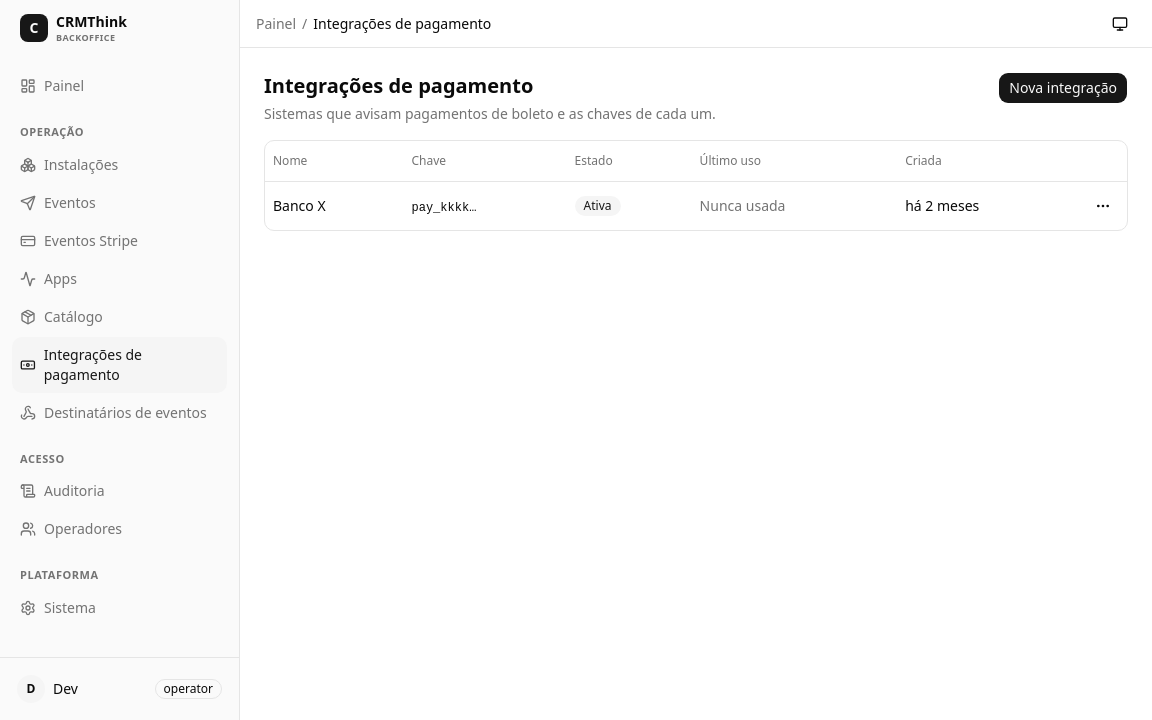
Scenario: tela Integrações de pagamento › erro da API aparece no diálogo, que continua aberto
Click the button named "Ações de Banco X" at (1103, 206), box [1087,190,1119,222]
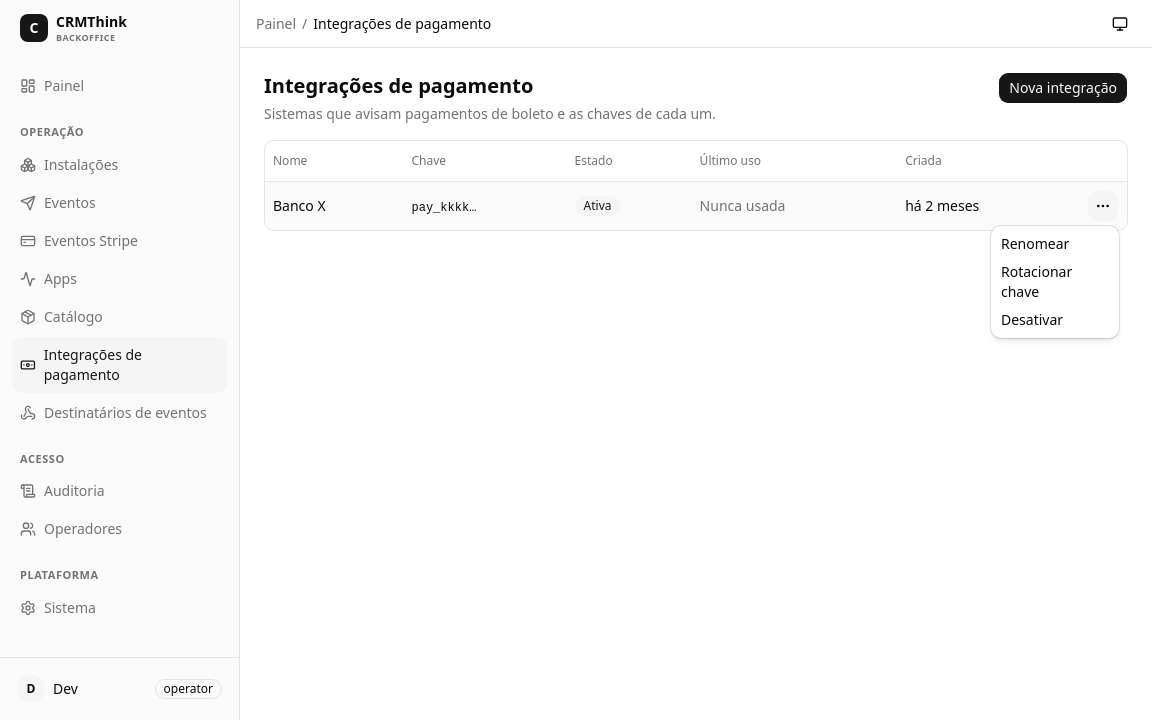
Click the menu item "Rotacionar chave" at (1037, 282), box [1001,262,1072,301]
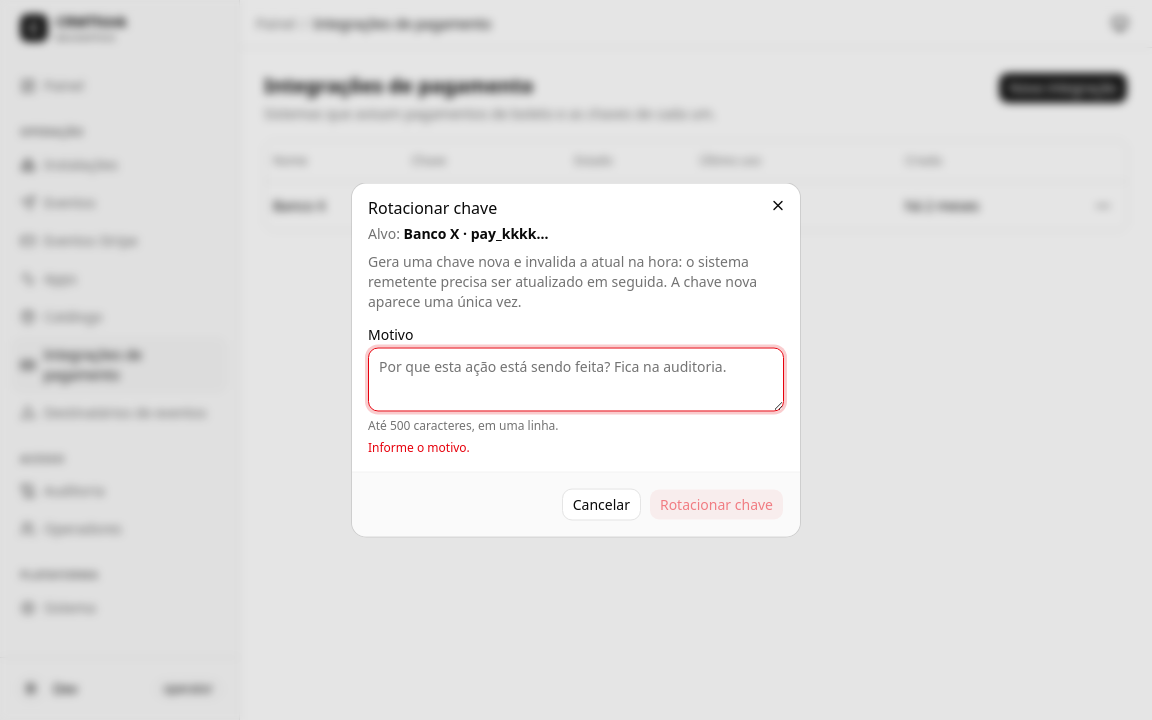
Type "integracao combinada com o financeiro" into the text box labelled "Motivo" at (576, 380), box [368,348,784,412]
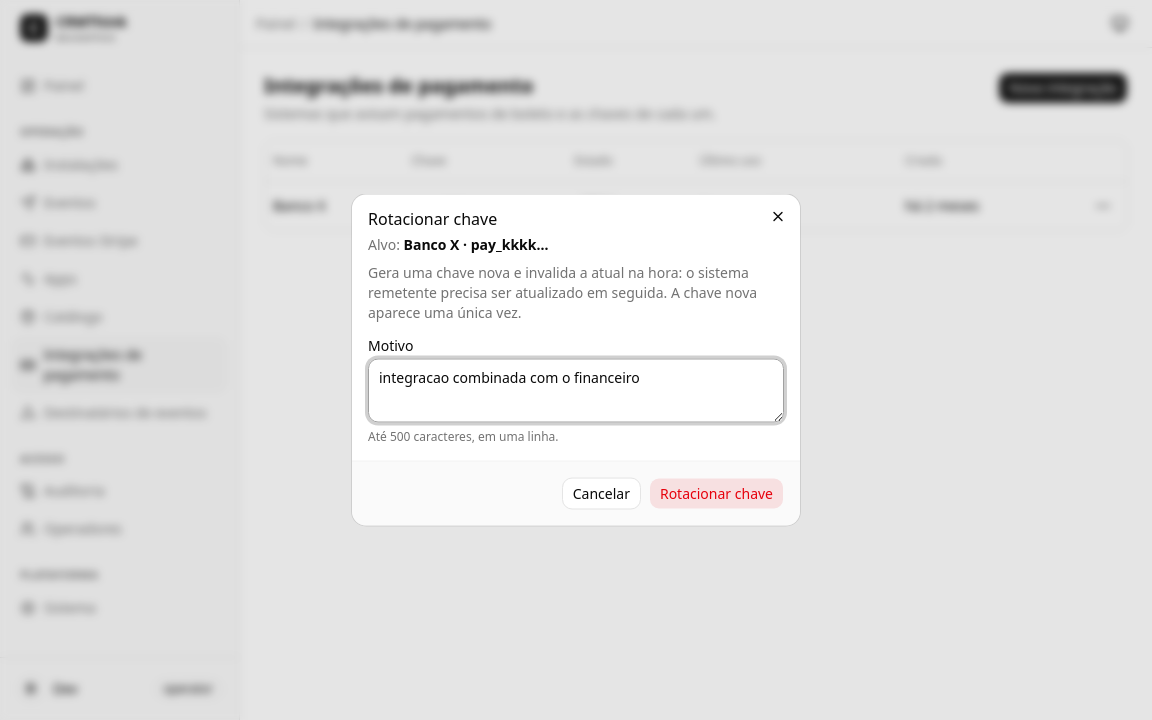
Click the button "Rotacionar chave" at (716, 494), box [649,478,784,510]
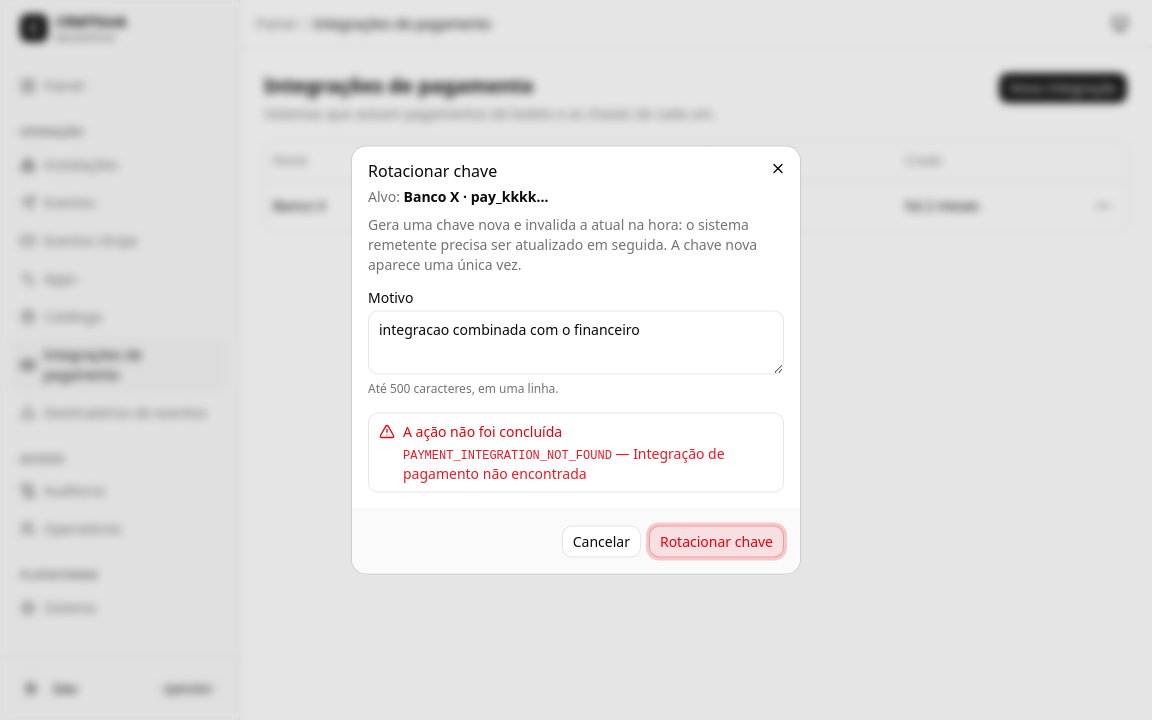
Now the dialog is shown, box [352,146,800,574]
Now the text "PAYMENT_INTEGRATION_NOT_FOUND" is shown, box [403,448,612,462]
